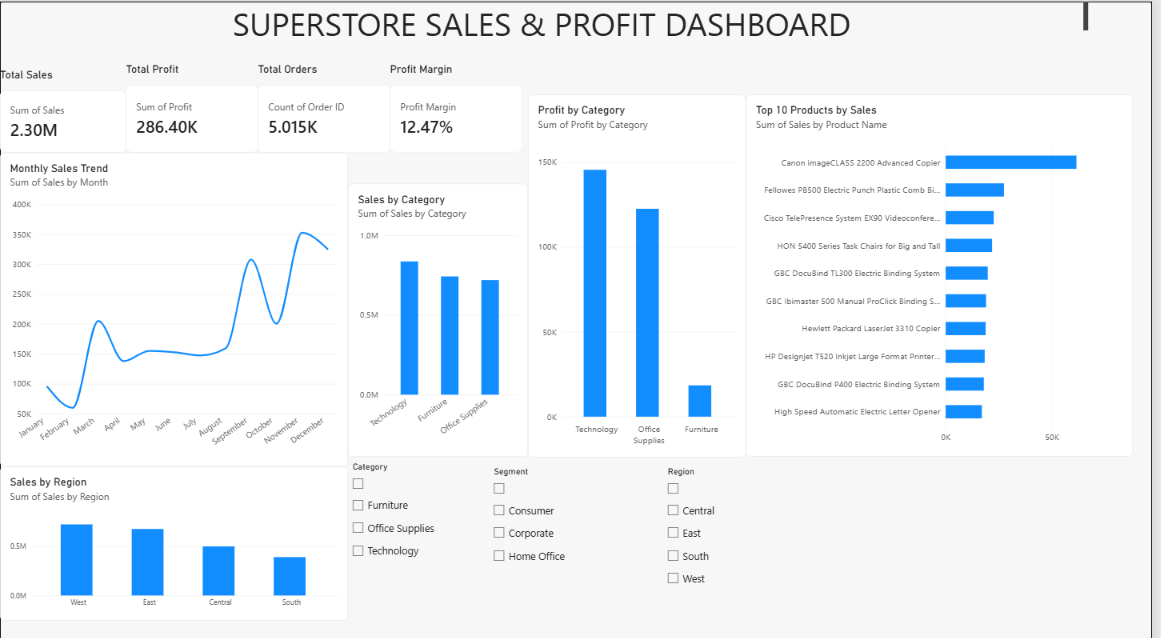

The page's visual inventory and layout, read from the dashboard file:
{"tool":"powerbi","page":{"name":"Dashboard","canvas":[1920,1080],"ordinal":0},"visuals":[{"type":"cardVisual","title":"Total Sales","fields":{"Data":["Sum(superstore.Sales)"]},"box":[0,111.7,210,140],"z":0},{"type":"cardVisual","title":"Total Profit","fields":{"Data":["Sum(superstore.Profit)"]},"box":[210,101.7,220,150],"z":1},{"type":"cardVisual","title":"Total Orders","fields":{"Data":["Count(superstore.Order ID)"]},"box":[430,101.7,220,150],"z":2},{"type":"cardVisual","title":"Profit Margin","fields":{"Data":["superstore.Profit Margin"]},"box":[650,101.7,220,150],"z":3},{"type":"lineChart","title":"Monthly Sales Trend","fields":{"Category":["superstore.Order Date.Variation.Date Hierarchy.Year","superstore.Order Date.Variation.Date Hierarchy.Month"],"Y":["Sum(superstore.Sales)"]},"box":[0,251.7,580,523.3],"z":4},{"type":"clusteredColumnChart","title":"Sales by Region","fields":{"Category":["superstore.Region"],"Y":["Sum(superstore.Sales)"]},"box":[0,775,580,257],"z":5},{"type":"clusteredColumnChart","title":"Sales by Category","fields":{"Category":["superstore.Category"],"Y":["Sum(superstore.Sales)"]},"box":[580,303.3,300,455],"z":6},{"type":"clusteredColumnChart","title":"Profit by Category","fields":{"Category":["superstore.Category"],"Y":["Sum(superstore.Profit)"]},"box":[880,155,291.7,605],"z":7},{"type":"clusteredBarChart","title":"Top 10 Products by Sales","fields":{"Category":["superstore.Product Name"],"Y":["Sum(superstore.Sales)"]},"box":[1168.3,155,645,603.3],"z":8},{"type":"slicer","fields":{"Values":["superstore.Category"]},"box":[580,766.7,220,196.7],"z":9},{"type":"slicer","fields":{"Values":["superstore.Segment"]},"box":[815,775,290,188.3],"z":10},{"type":"slicer","fields":{"Values":["superstore.Region"]},"box":[1105,775,225,226.7],"z":11},{"type":"textbox","box":[0,0,1813.3,58.3],"z":13}]}

Visuals, with their boxes in screenshot pixels (x1, y1, x2, y2), scaled from the page's 1920x1080 canvas onto the 1161x638 screenshot:
"Total Sales" cardVisual: (0,66,127,149)
"Total Profit" cardVisual: (127,60,260,149)
"Total Orders" cardVisual: (260,60,393,149)
"Profit Margin" cardVisual: (393,60,526,149)
"Monthly Sales Trend" lineChart: (0,149,351,458)
"Sales by Region" clusteredColumnChart: (0,458,351,610)
"Sales by Category" clusteredColumnChart: (351,179,532,448)
"Profit by Category" clusteredColumnChart: (532,92,709,449)
"Top 10 Products by Sales" clusteredBarChart: (706,92,1096,448)
slicer - superstore.Category: (351,453,484,569)
slicer - superstore.Segment: (493,458,668,569)
slicer - superstore.Region: (668,458,804,592)
textbox: (0,0,1096,34)
